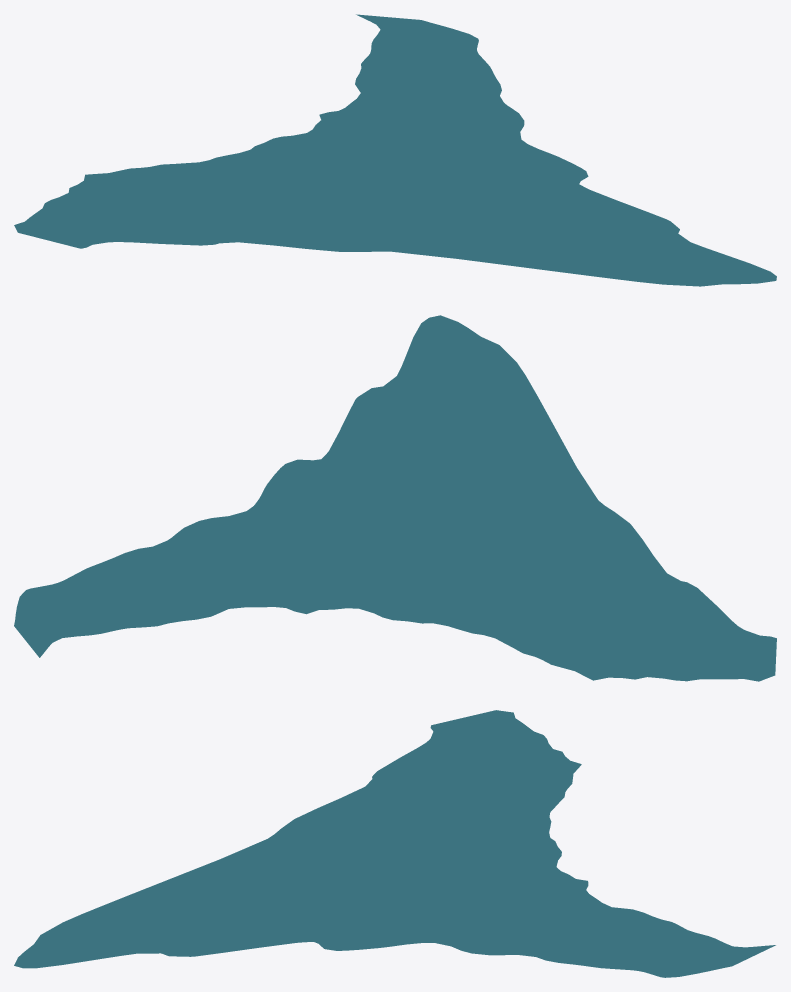
Rendered from SM_ForestRisingOutlet.fbx.
3 views of the same model, one above another, from view 1: azimuth 30°, elevation 25°; view 2: azimuth 150°, elevation 25°; view 3: azimuth 270°, elevation 25° (orthographic). The views are drawn at different scales.
Visible parts, largest first — view 1: SM_ForestRisingOutlet; view 2: SM_ForestRisingOutlet; view 3: SM_ForestRisingOutlet.
Part boxes in pixels (<box>): SM_ForestRisingOutlet: <box>14,14,776,286</box>; SM_ForestRisingOutlet: <box>14,315,776,681</box>; SM_ForestRisingOutlet: <box>14,710,775,977</box>.
Size of the model in its own units: 5068 by 6102 by 0.
